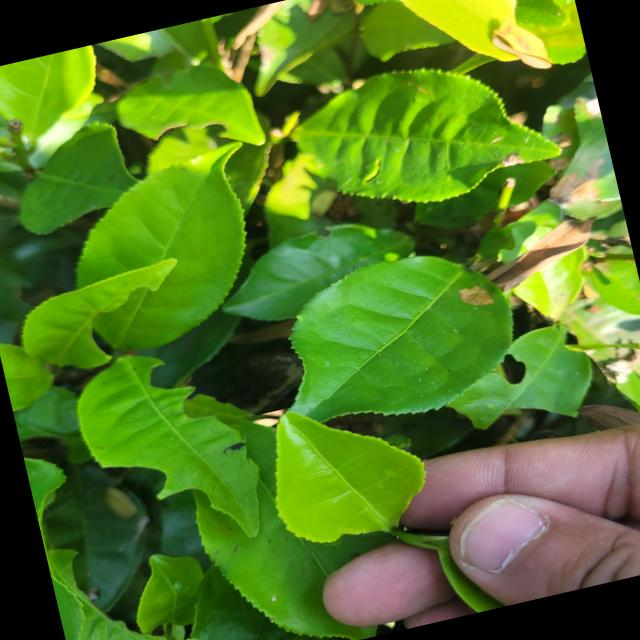Catagory A(1-2 days): (239, 375, 461, 565)
